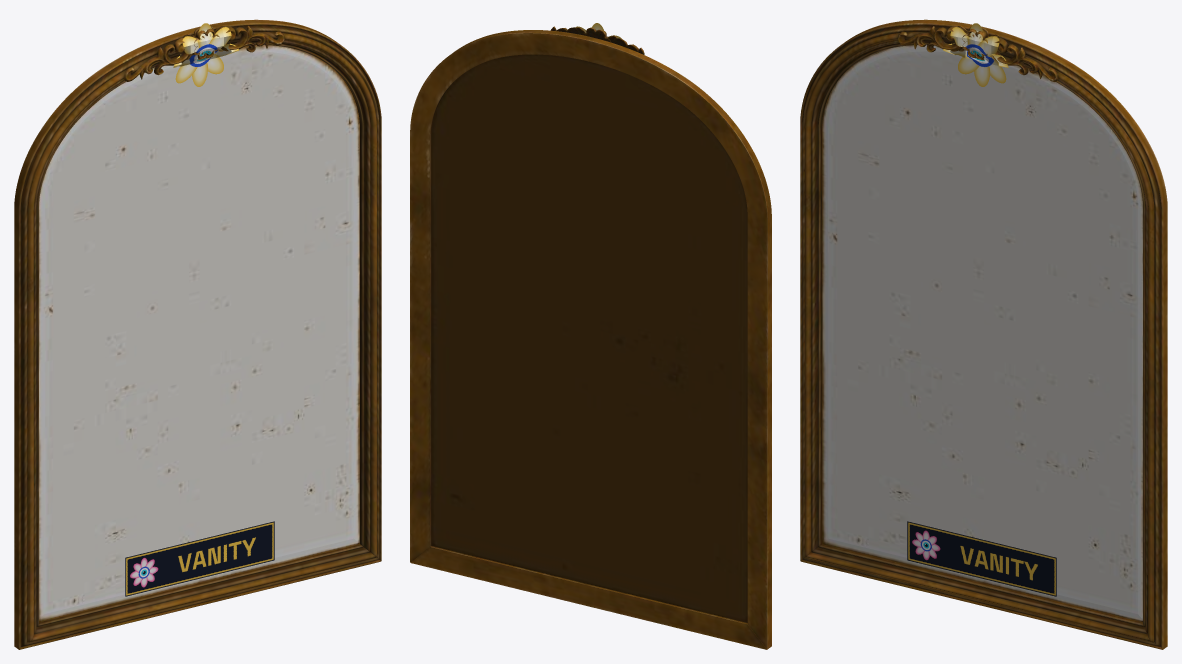
File: nyb_devils_mirror.glb
3 views of the same model, side by side, from view 1: azimuth 30°, elevation 25°; view 2: azimuth 150°, elevation 25°; view 3: azimuth 330°, elevation 25° (orthographic).
Visible parts, largest first — view 1: ornate_mirror_01, stk_lbl_f393a6c63c.png, stk_eyeflower_gold.png; view 2: ornate_mirror_01; view 3: ornate_mirror_01, stk_lbl_f393a6c63c.png, stk_eyeflower_gold.png.
Boxes of the visible parts, x1,y1,x2,y2 form: ornate_mirror_01: (14, 19, 381, 649); stk_lbl_f393a6c63c.png: (125, 521, 274, 596); stk_eyeflower_gold.png: (173, 23, 238, 86); ornate_mirror_01: (410, 26, 771, 649); ornate_mirror_01: (800, 19, 1167, 649); stk_lbl_f393a6c63c.png: (907, 521, 1056, 596); stk_eyeflower_gold.png: (943, 23, 1008, 86).
Size of the model in its own units: 0.4865 by 0.7516 by 0.0277.
3 materials, 3 textured.
